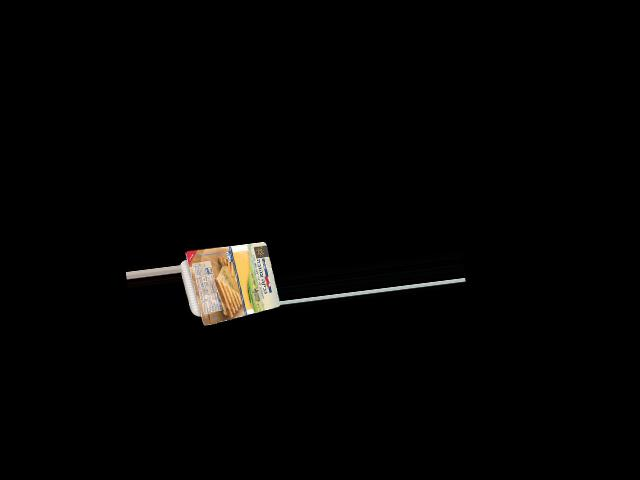cheese: (178, 243, 280, 325)
